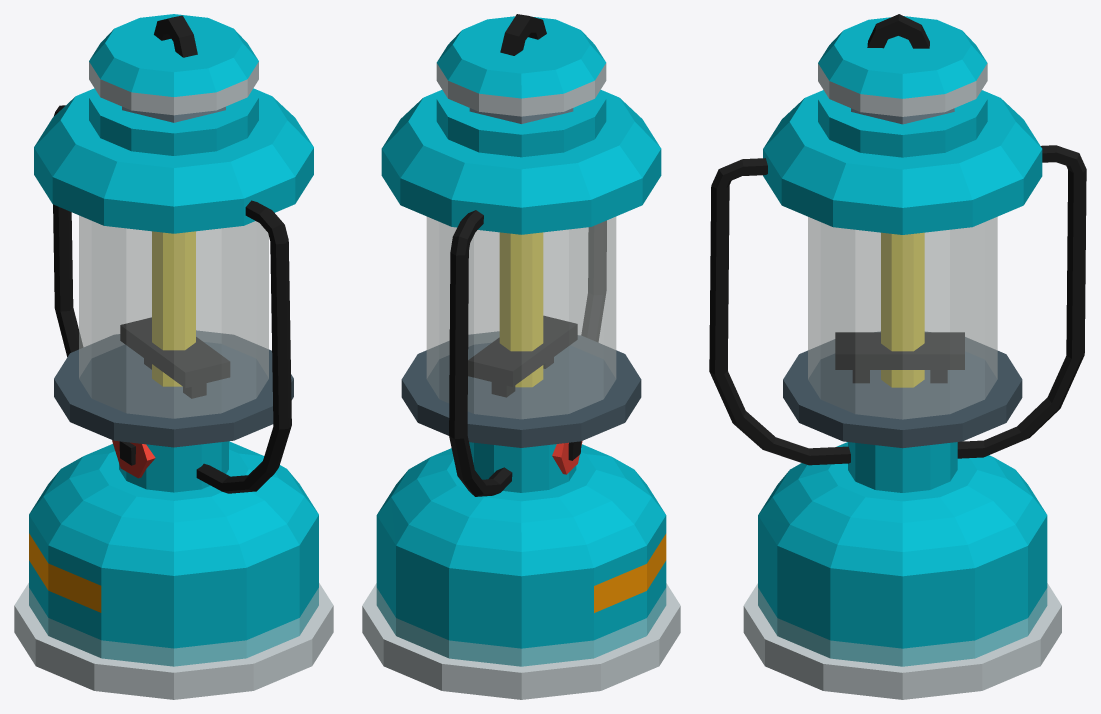
The model's file is lamp.glb.
3 views of the same model, side by side, from view 1: azimuth 30°, elevation 25°; view 2: azimuth 150°, elevation 25°; view 3: azimuth 270°, elevation 25° (orthographic).
Parts seen in each view (by area): view 1: group1769749722; view 2: group1769749722; view 3: group1769749722.
Boxes of the visible parts, x1,y1,x2,y2 form: group1769749722: (14,14,333,699); group1769749722: (362,14,680,699); group1769749722: (709,14,1086,699).
Bounding box in the file's own units: 0.14 × 0.2986 × 0.1659.
